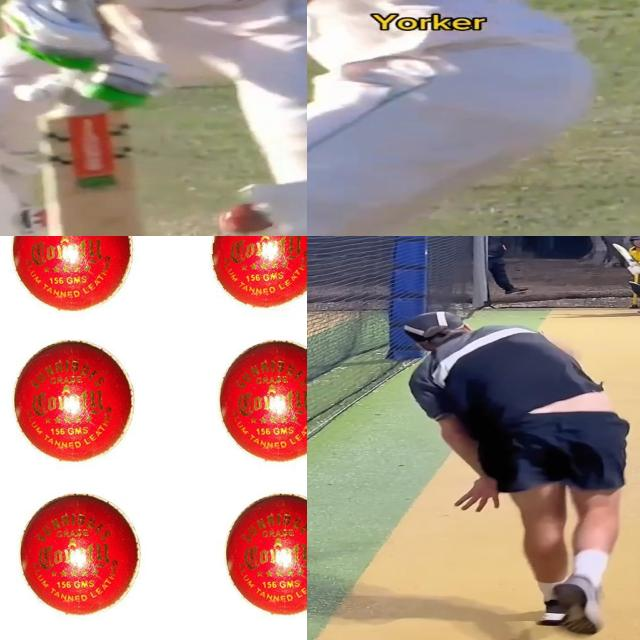Cricket ball: (0, 330, 157, 462), (9, 486, 151, 625), (206, 334, 307, 473), (211, 488, 307, 628), (0, 236, 144, 314), (200, 236, 307, 320), (218, 200, 277, 236)
